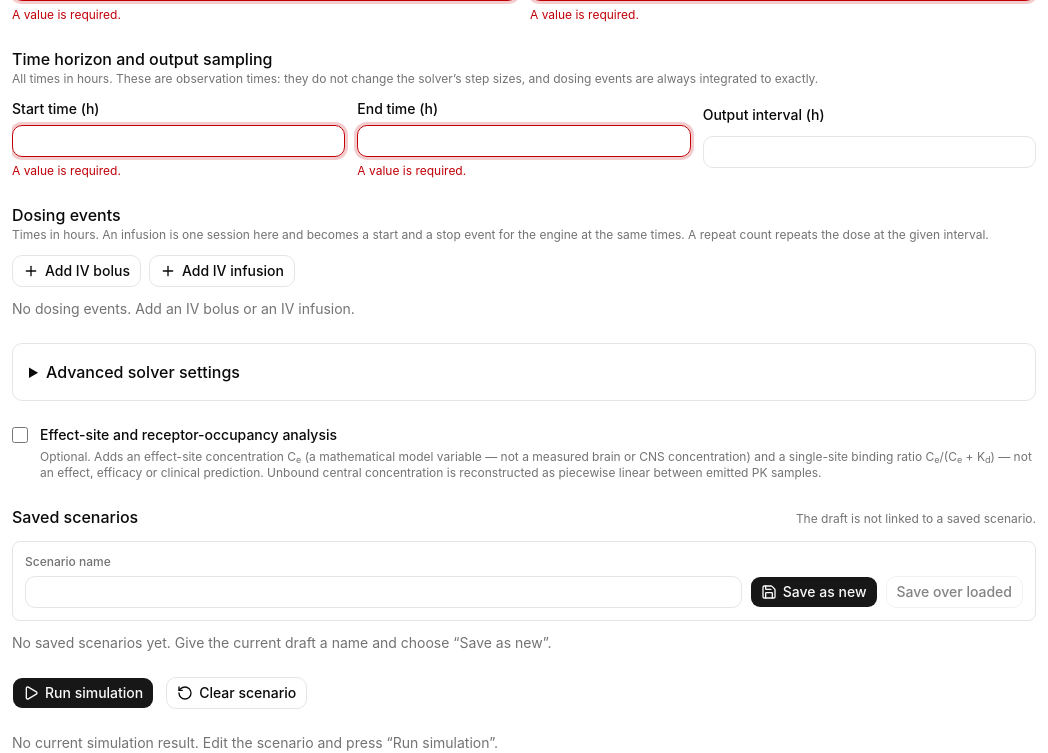
saved scenarios — save › does not save when the repository fails, and reports the failure honestly
The image size is (1048, 753).
(page scrolled)
Type "Will fail" into the field with test id "scenario-name-input".
click(383, 592); type("Will fail")  # box [25,576,742,608]
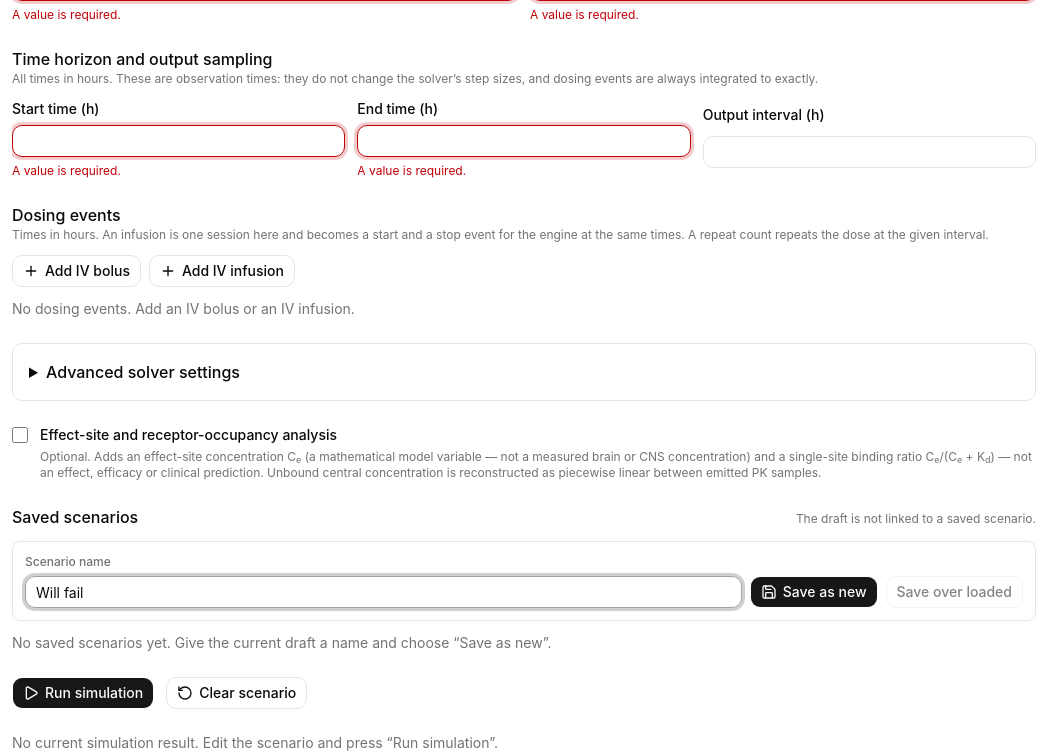
Click the button with test id "scenario-save".
click(814, 592)  # box [750,576,878,608]
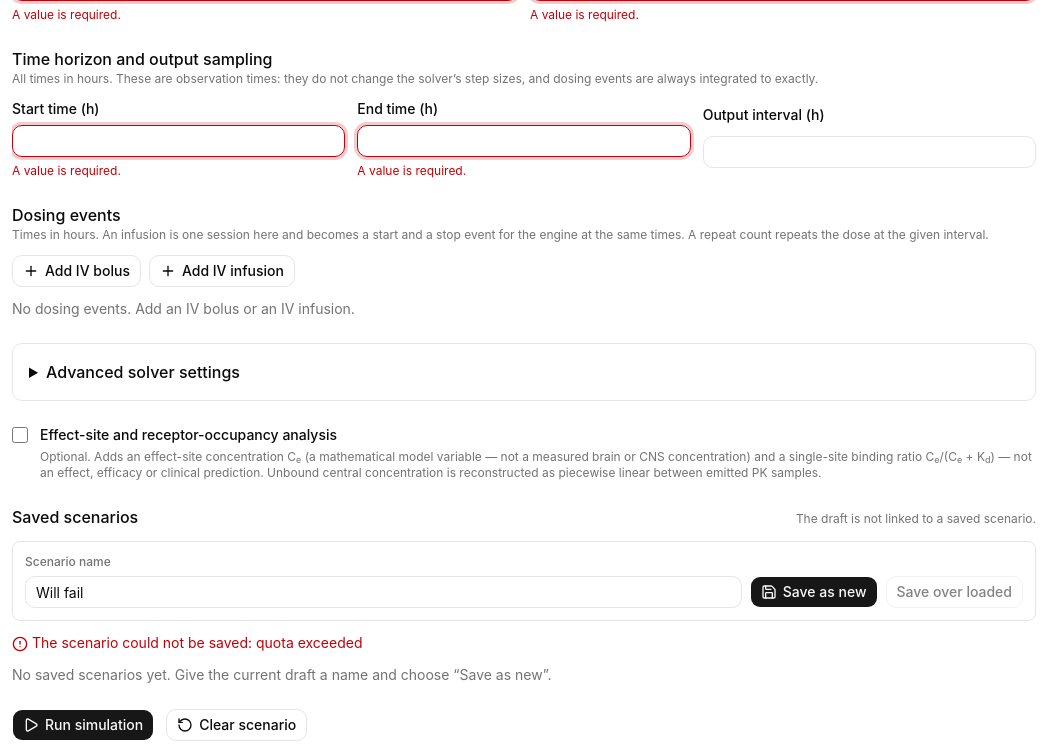
Now the message with test id "scenario-feedback" shows "could not be saved", box [32,634,362,651]
